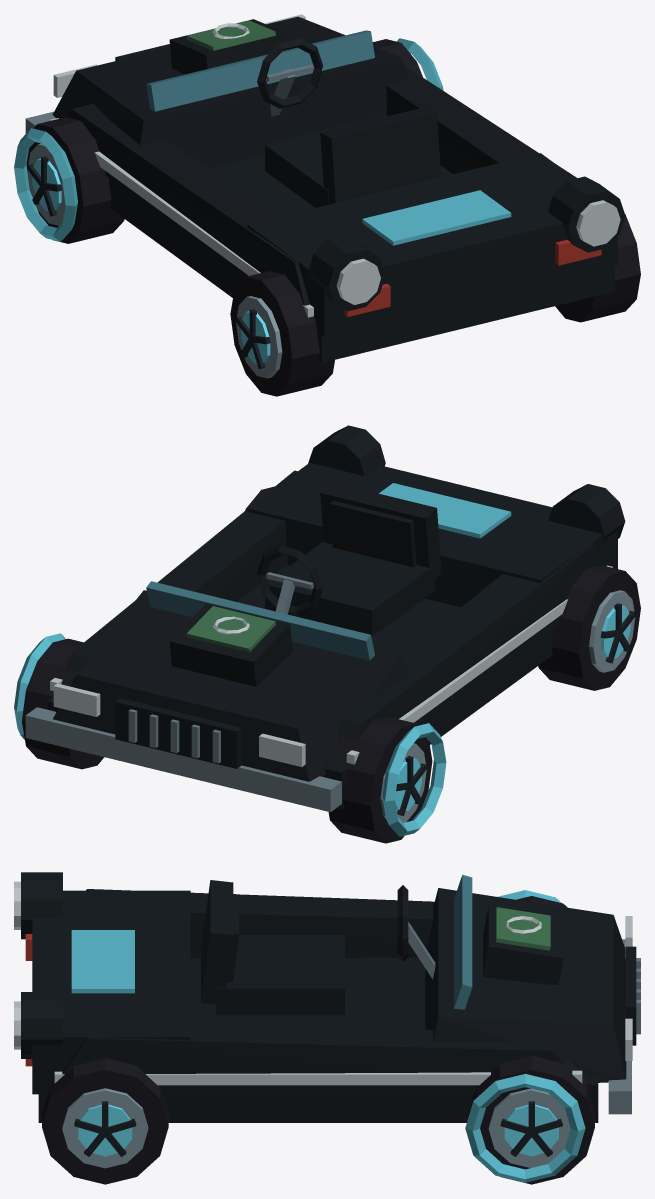
File: kart.glb
The picture shows the model from 3 angles, top to bottom: view 1: azimuth 30°, elevation 25°; view 2: azimuth 150°, elevation 25°; view 3: azimuth 270°, elevation 25°; orthographic projection. The views are drawn at different scales.
Parts seen in each view (by area): view 1: identity-sedan-sedan-road-car-body, identity-sedan-driver-cockpit, wheel-rear-left, identity-sedan-motif-thrusters, wheel-front-left, identity-sedan-motif-neon, identity-sedan-motif-scanner, wheel-rear-right, wheel-front-right; view 2: identity-sedan-sedan-road-car-body, identity-sedan-driver-cockpit, wheel-rear-left, wheel-front-left, identity-sedan-motif-scanner, identity-sedan-motif-neon, identity-sedan-motif-thrusters, wheel-front-right; view 3: identity-sedan-sedan-road-car-body, identity-sedan-driver-cockpit, wheel-rear-right, identity-sedan-motif-neon, wheel-front-right, identity-sedan-motif-scanner, identity-sedan-motif-thrusters.
Boxes of the visible parts, left/top/right/bottom form: identity-sedan-sedan-road-car-body: left=25, top=14, right=617, bottom=362; identity-sedan-driver-cockpit: left=257, top=38, right=440, bottom=207; wheel-rear-left: left=230, top=271, right=334, bottom=396; identity-sedan-motif-thrusters: left=308, top=176, right=625, bottom=311; wheel-front-left: left=26, top=117, right=124, bottom=243; identity-sedan-motif-neon: left=14, top=38, right=443, bottom=317; identity-sedan-motif-scanner: left=169, top=19, right=290, bottom=74; wheel-rear-right: left=555, top=214, right=640, bottom=322; wheel-front-right: left=372, top=39, right=422, bottom=77; identity-sedan-sedan-road-car-body: left=25, top=463, right=617, bottom=812; identity-sedan-driver-cockpit: left=257, top=482, right=441, bottom=636; wheel-rear-left: left=538, top=565, right=640, bottom=690; wheel-front-left: left=328, top=717, right=432, bottom=843; identity-sedan-motif-scanner: left=169, top=603, right=292, bottom=686; identity-sedan-motif-neon: left=14, top=565, right=612, bottom=836; identity-sedan-motif-thrusters: left=308, top=425, right=625, bottom=541; wheel-front-right: left=22, top=638, right=104, bottom=769; identity-sedan-sedan-road-car-body: left=25, top=874, right=640, bottom=1122; identity-sedan-driver-cockpit: left=201, top=880, right=435, bottom=1015; wheel-rear-right: left=42, top=1058, right=168, bottom=1184; identity-sedan-motif-neon: left=54, top=890, right=585, bottom=1182; wheel-front-right: left=468, top=1055, right=594, bottom=1184; identity-sedan-motif-scanner: left=483, top=904, right=563, bottom=985; identity-sedan-motif-thrusters: left=14, top=872, right=62, bottom=1058.
Bounding box in the file's own units: 2.13 × 1.09 × 2.97.
